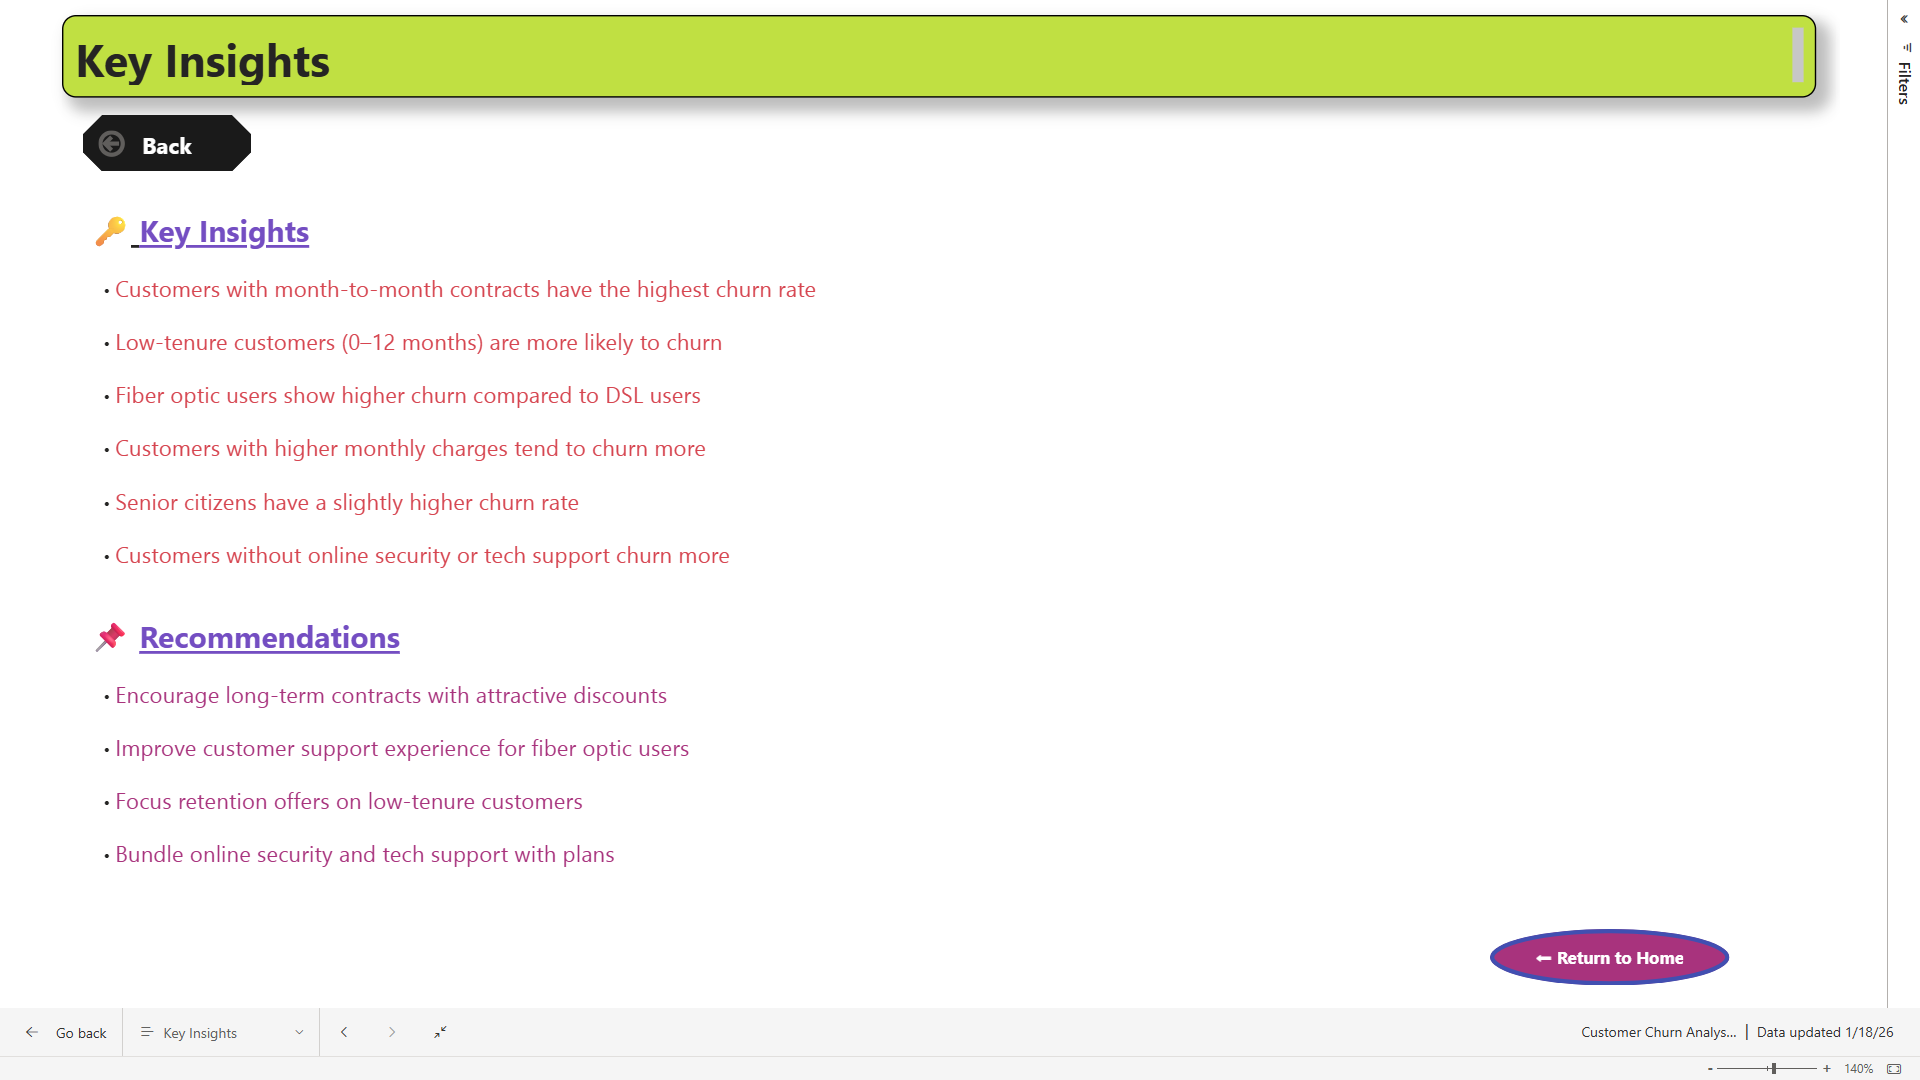

Layout of this report page (visuals, bound fields, positions):
{"tool":"powerbi","page":{"name":"Key Insights","canvas":[1280,720],"ordinal":4},"visuals":[{"type":"textbox","box":[9.8,10.8,1252.8,59.1],"z":0},{"type":"actionButton","box":[25.1,82.4,120,40.3],"z":1000},{"type":"textbox","box":[25.1,145.1,1196.4,502.4],"z":2000},{"type":"actionButton","box":[1029.8,663.6,171,40.3],"z":2001}]}

Visuals, with their boxes on the page's 1280x720 design canvas (x1, y1, x2, y2). These are canvas units, not pixel positions in the 1920x1080 screenshot, which may show the page scaled, cropped or inside an application window:
textbox: box=[10, 11, 1263, 70]
actionButton: box=[25, 82, 145, 123]
textbox: box=[25, 145, 1222, 648]
actionButton: box=[1030, 664, 1201, 704]
